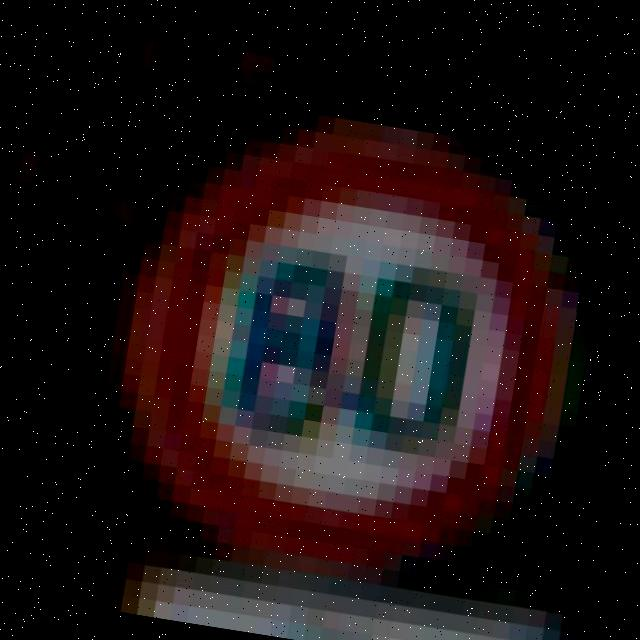Ograniczenie predkosci do 80: (115, 120, 581, 600)
